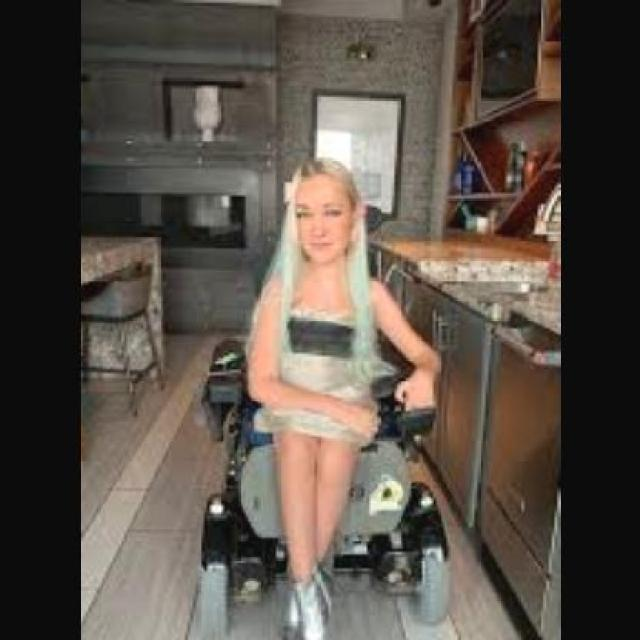wheelchairs: (197, 335, 451, 640)
